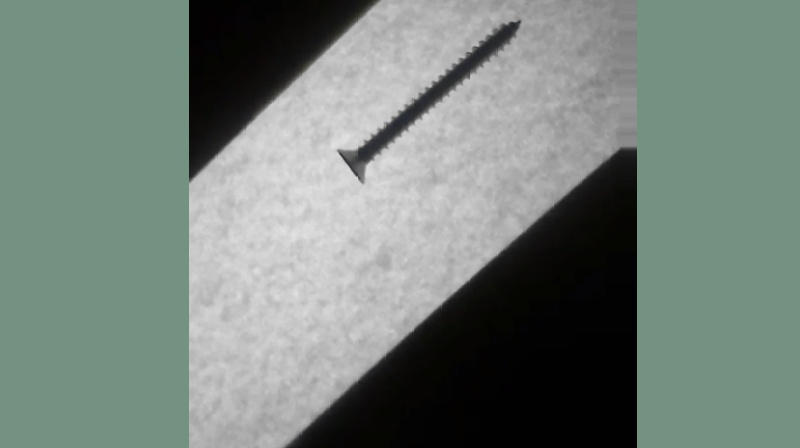S002: (334, 12, 526, 188)
